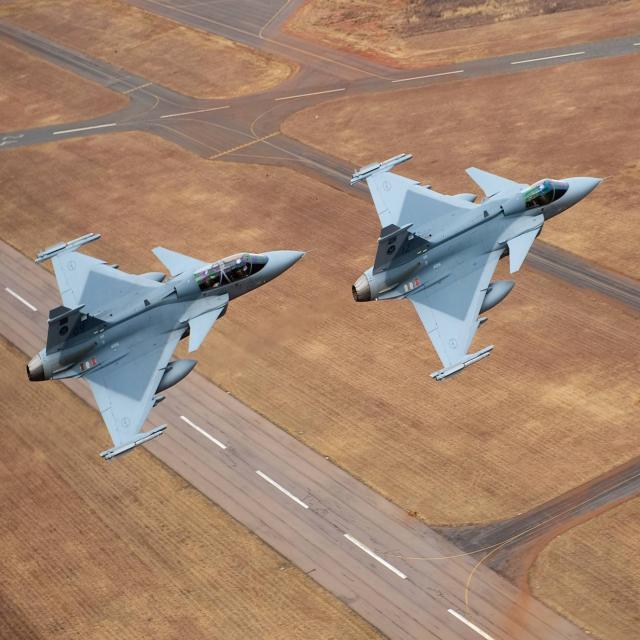MIL_Plane: (26, 232, 318, 463), (350, 148, 614, 381)
